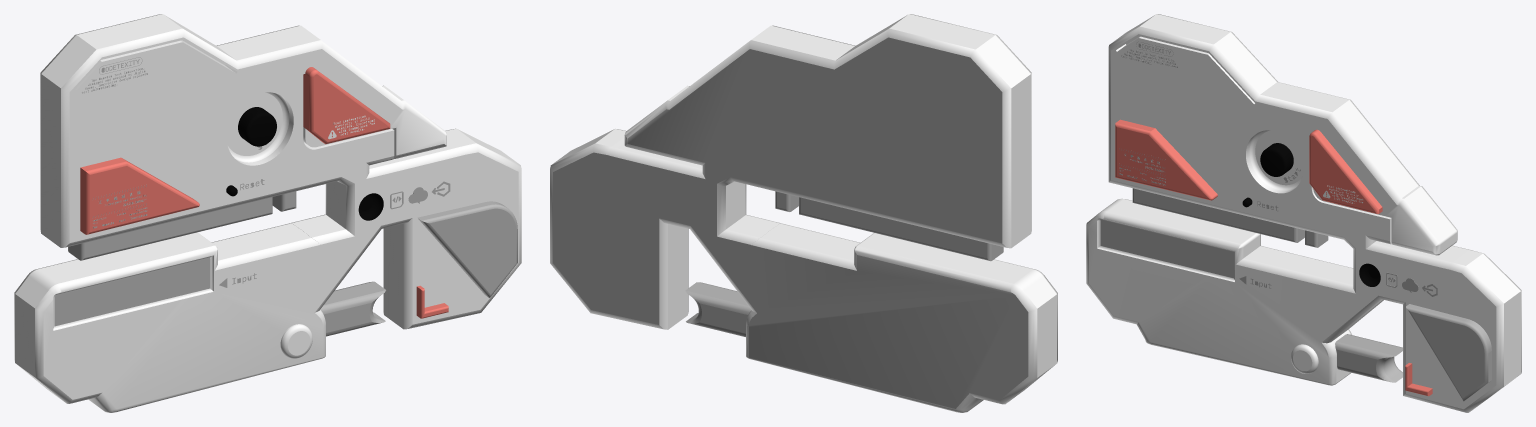
3 views of the same model, side by side, from view 1: azimuth 30°, elevation 25°; view 2: azimuth 150°, elevation 25°; view 3: azimuth 330°, elevation 25° (orthographic). The views are drawn at different scales.
Parts seen in each view (by area): view 1: 主体, Extrude_6, Extrude, inputPlane, Extrude_8, Extrude_5, Extrude_1, Buttom, Extrude_9, Attention, Extrude_4, Logo; view 2: 主体, Extrude_8, Extrude_1; view 3: 主体, Extrude_6, Extrude, inputPlane, Extrude_5, Extrude_8, Extrude_1, Buttom, Extrude_9, Attention, Extrude_4.
Part boxes in pixels (<box>): 主体: <box>14,14,521,412</box>; Extrude_6: <box>80,157,199,234</box>; Extrude: <box>417,201,517,297</box>; inputPlane: <box>55,259,210,325</box>; Extrude_8: <box>68,191,296,260</box>; Extrude_5: <box>303,67,390,144</box>; Extrude_1: <box>320,281,385,336</box>; Buttom: <box>238,107,276,146</box>; Extrude_9: <box>280,324,312,358</box>; Attention: <box>82,57,147,93</box>; Extrude_4: <box>416,285,448,318</box>; Logo: <box>390,181,450,209</box>; 主体: <box>550,14,1057,412</box>; Extrude_8: <box>775,191,1003,261</box>; Extrude_1: <box>685,282,751,336</box>; 主体: <box>1086,14,1521,412</box>; Extrude_6: <box>1115,119,1217,200</box>; Extrude: <box>1406,304,1491,401</box>; inputPlane: <box>1101,220,1233,278</box>; Extrude_5: <box>1309,129,1382,213</box>; Extrude_8: <box>1132,188,1328,247</box>; Extrude_1: <box>1335,334,1402,382</box>; Buttom: <box>1260,143,1293,176</box>; Extrude_9: <box>1291,344,1318,373</box>; Attention: <box>1121,41,1177,67</box>; Extrude_4: <box>1405,363,1432,396</box>.
Size of the model in its own units: 17.01 by 12.2 by 2.02.
